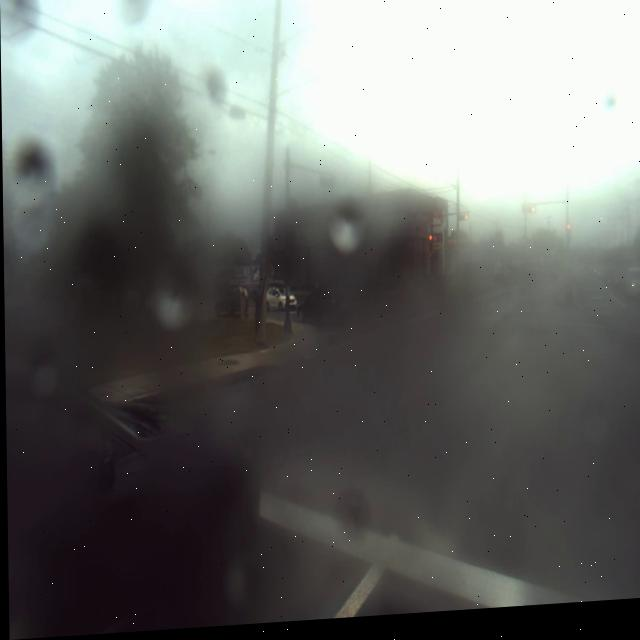trafficLight-Red: (563, 224, 574, 257), (521, 212, 540, 221)
